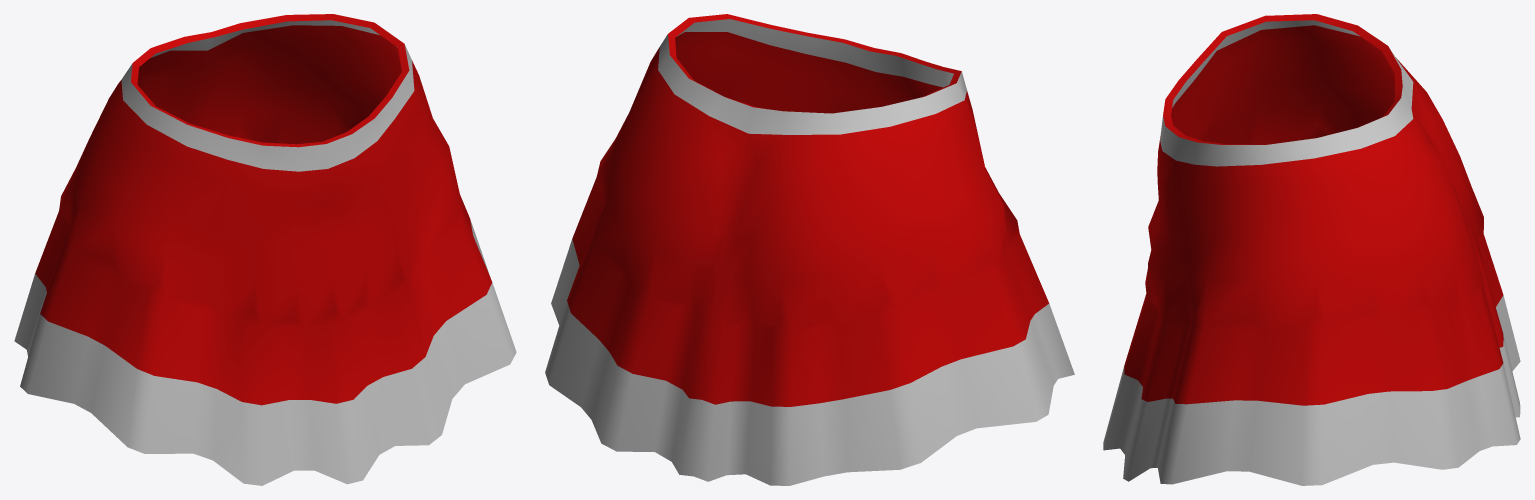
The picture shows the model from 3 angles, left to right: view 1: azimuth 30°, elevation 25°; view 2: azimuth 150°, elevation 25°; view 3: azimuth 270°, elevation 25°; orthographic projection. The views are drawn at different scales.
Visible parts, largest first — view 1: cgirl_EroticSkirt; view 2: cgirl_EroticSkirt; view 3: cgirl_EroticSkirt.
Part boxes in pixels (left/top/right/bottom): cgirl_EroticSkirt: left=14, top=14, right=516, bottom=485; cgirl_EroticSkirt: left=545, top=14, right=1074, bottom=485; cgirl_EroticSkirt: left=1103, top=14, right=1520, bottom=485.
Bounding box in the file's own units: 4639 × 3395 × 3466.
